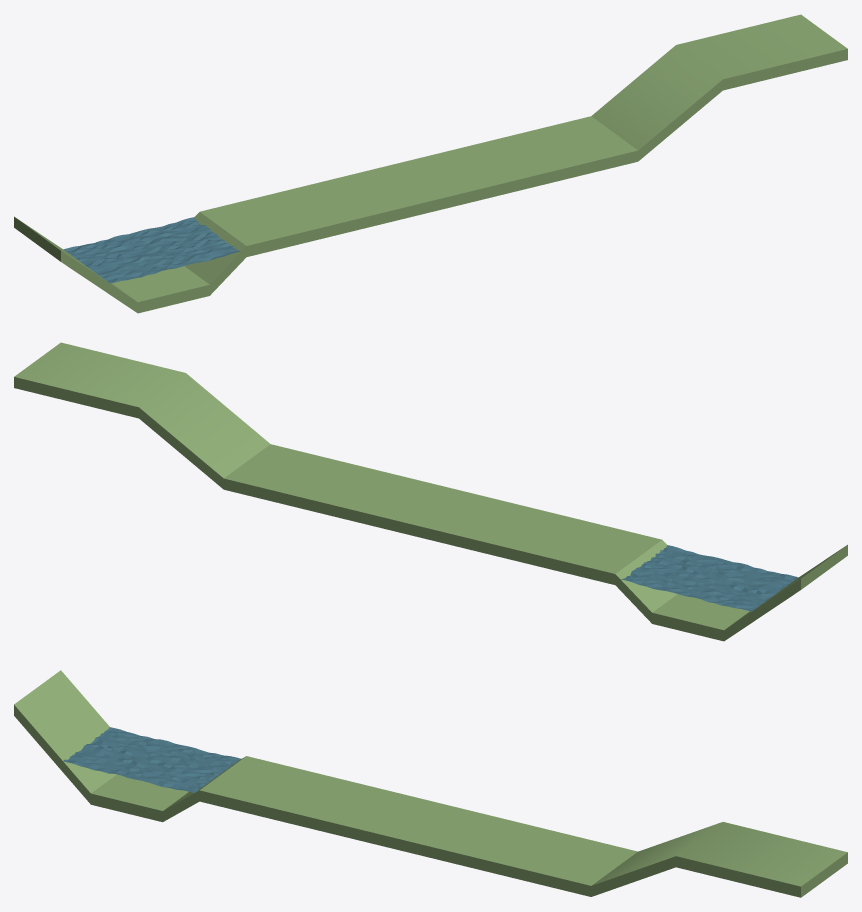
File: SM_Landscape (1).fbx
3 views of the same model, one above another, from view 1: azimuth 30°, elevation 25°; view 2: azimuth 150°, elevation 25°; view 3: azimuth 330°, elevation 25° (orthographic).
Parts seen in each view (by area): view 1: SM_Landscape; view 2: SM_Landscape; view 3: SM_Landscape.
Boxes of the visible parts, bbox=[...] form: SM_Landscape: bbox=[14, 14, 847, 313]; SM_Landscape: bbox=[14, 342, 847, 641]; SM_Landscape: bbox=[14, 670, 847, 897].
Size of the model in its own units: 9678 by 1074 by 1000.
